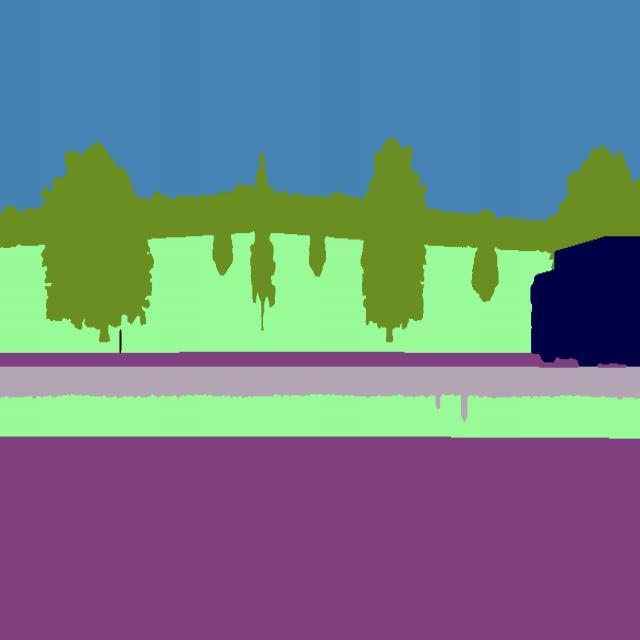safe: (530, 234, 640, 368)
